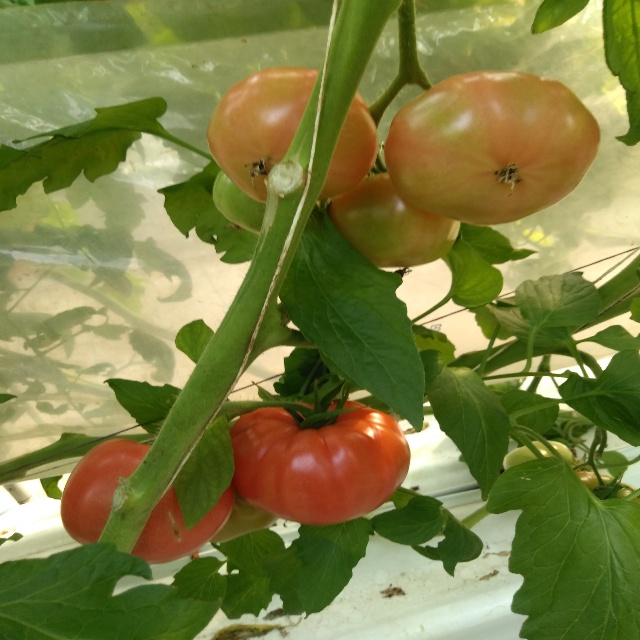b_fully_ripened: (228, 401, 411, 526), (60, 438, 236, 564)
b_green: (209, 486, 279, 543), (212, 169, 267, 234), (504, 440, 572, 470)
b_half_ripened: (384, 70, 602, 225), (206, 66, 381, 204), (329, 172, 462, 269), (574, 471, 639, 504)
